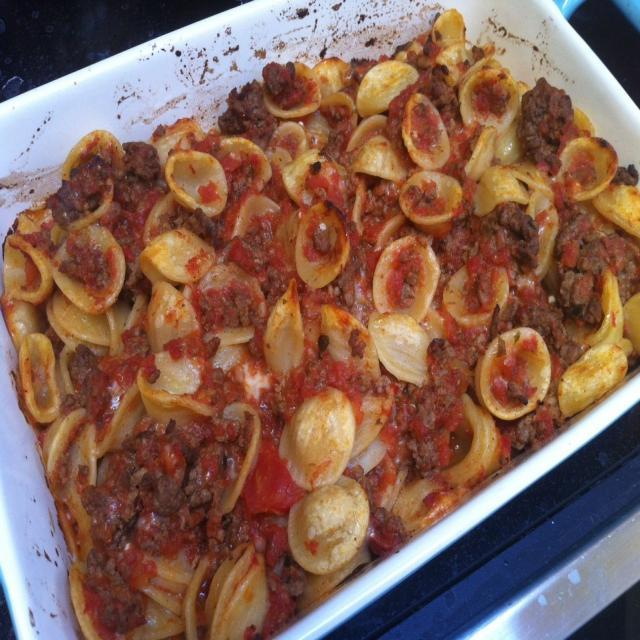Pasta al ragu: (11, 88, 590, 424)
